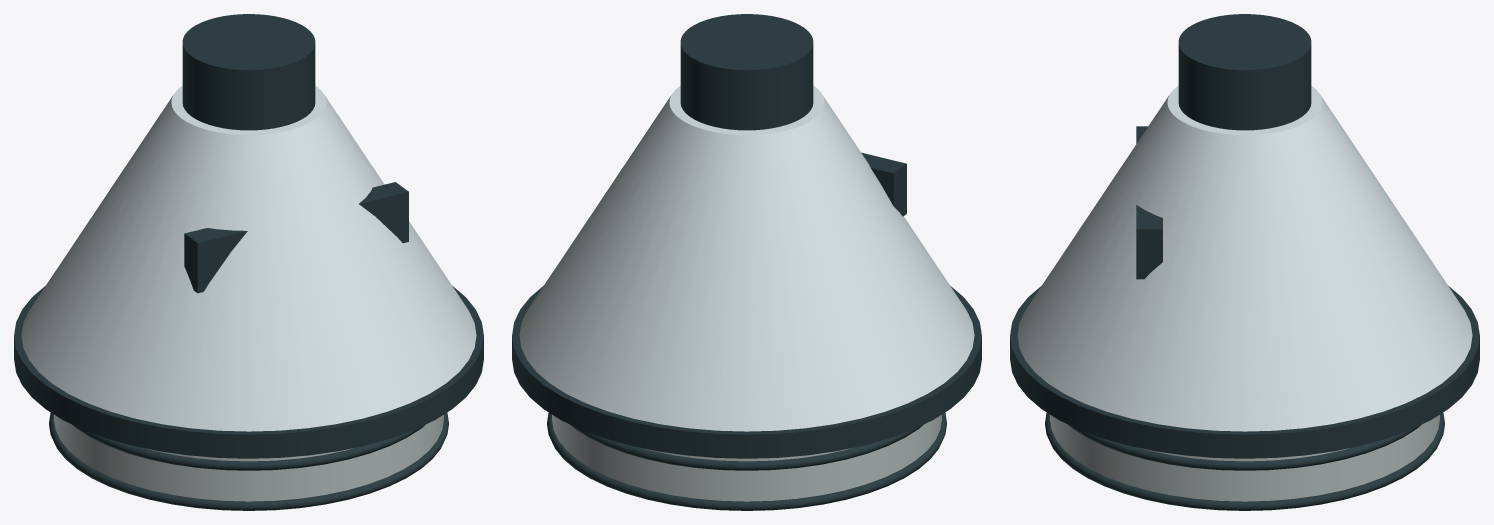
Rendered from mercury.glb.
3 renders of one model, left to right at view 1: azimuth 30°, elevation 25°; view 2: azimuth 150°, elevation 25°; view 3: azimuth 270°, elevation 25°, orthographic.
Parts seen in each view (by area): view 1: body, service, heatshield, instruments, crew; view 2: body, service, heatshield, instruments, crew; view 3: body, service, heatshield, instruments, crew.
Part boxes in pixels (x1,y1,x2,y2): body: (21, 85, 476, 431); service: (49, 412, 448, 510); heatshield: (14, 286, 483, 458); instruments: (182, 14, 315, 130); crew: (184, 182, 408, 293); body: (519, 85, 974, 431); service: (547, 412, 946, 510); heatshield: (512, 286, 981, 458); instruments: (680, 14, 813, 130); crew: (861, 152, 906, 216); body: (1017, 85, 1472, 431); service: (1045, 412, 1444, 510); heatshield: (1010, 286, 1479, 458); instruments: (1178, 14, 1311, 130); crew: (1136, 126, 1162, 279).
Size of the model in its own units: 2.12 by 2.21 by 2.12.
